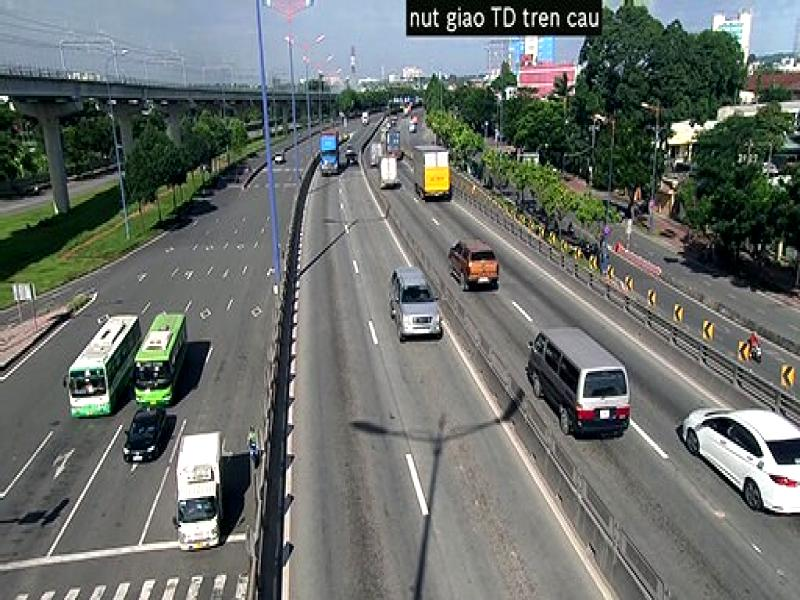bus: (63, 312, 145, 425), (134, 309, 196, 410)
